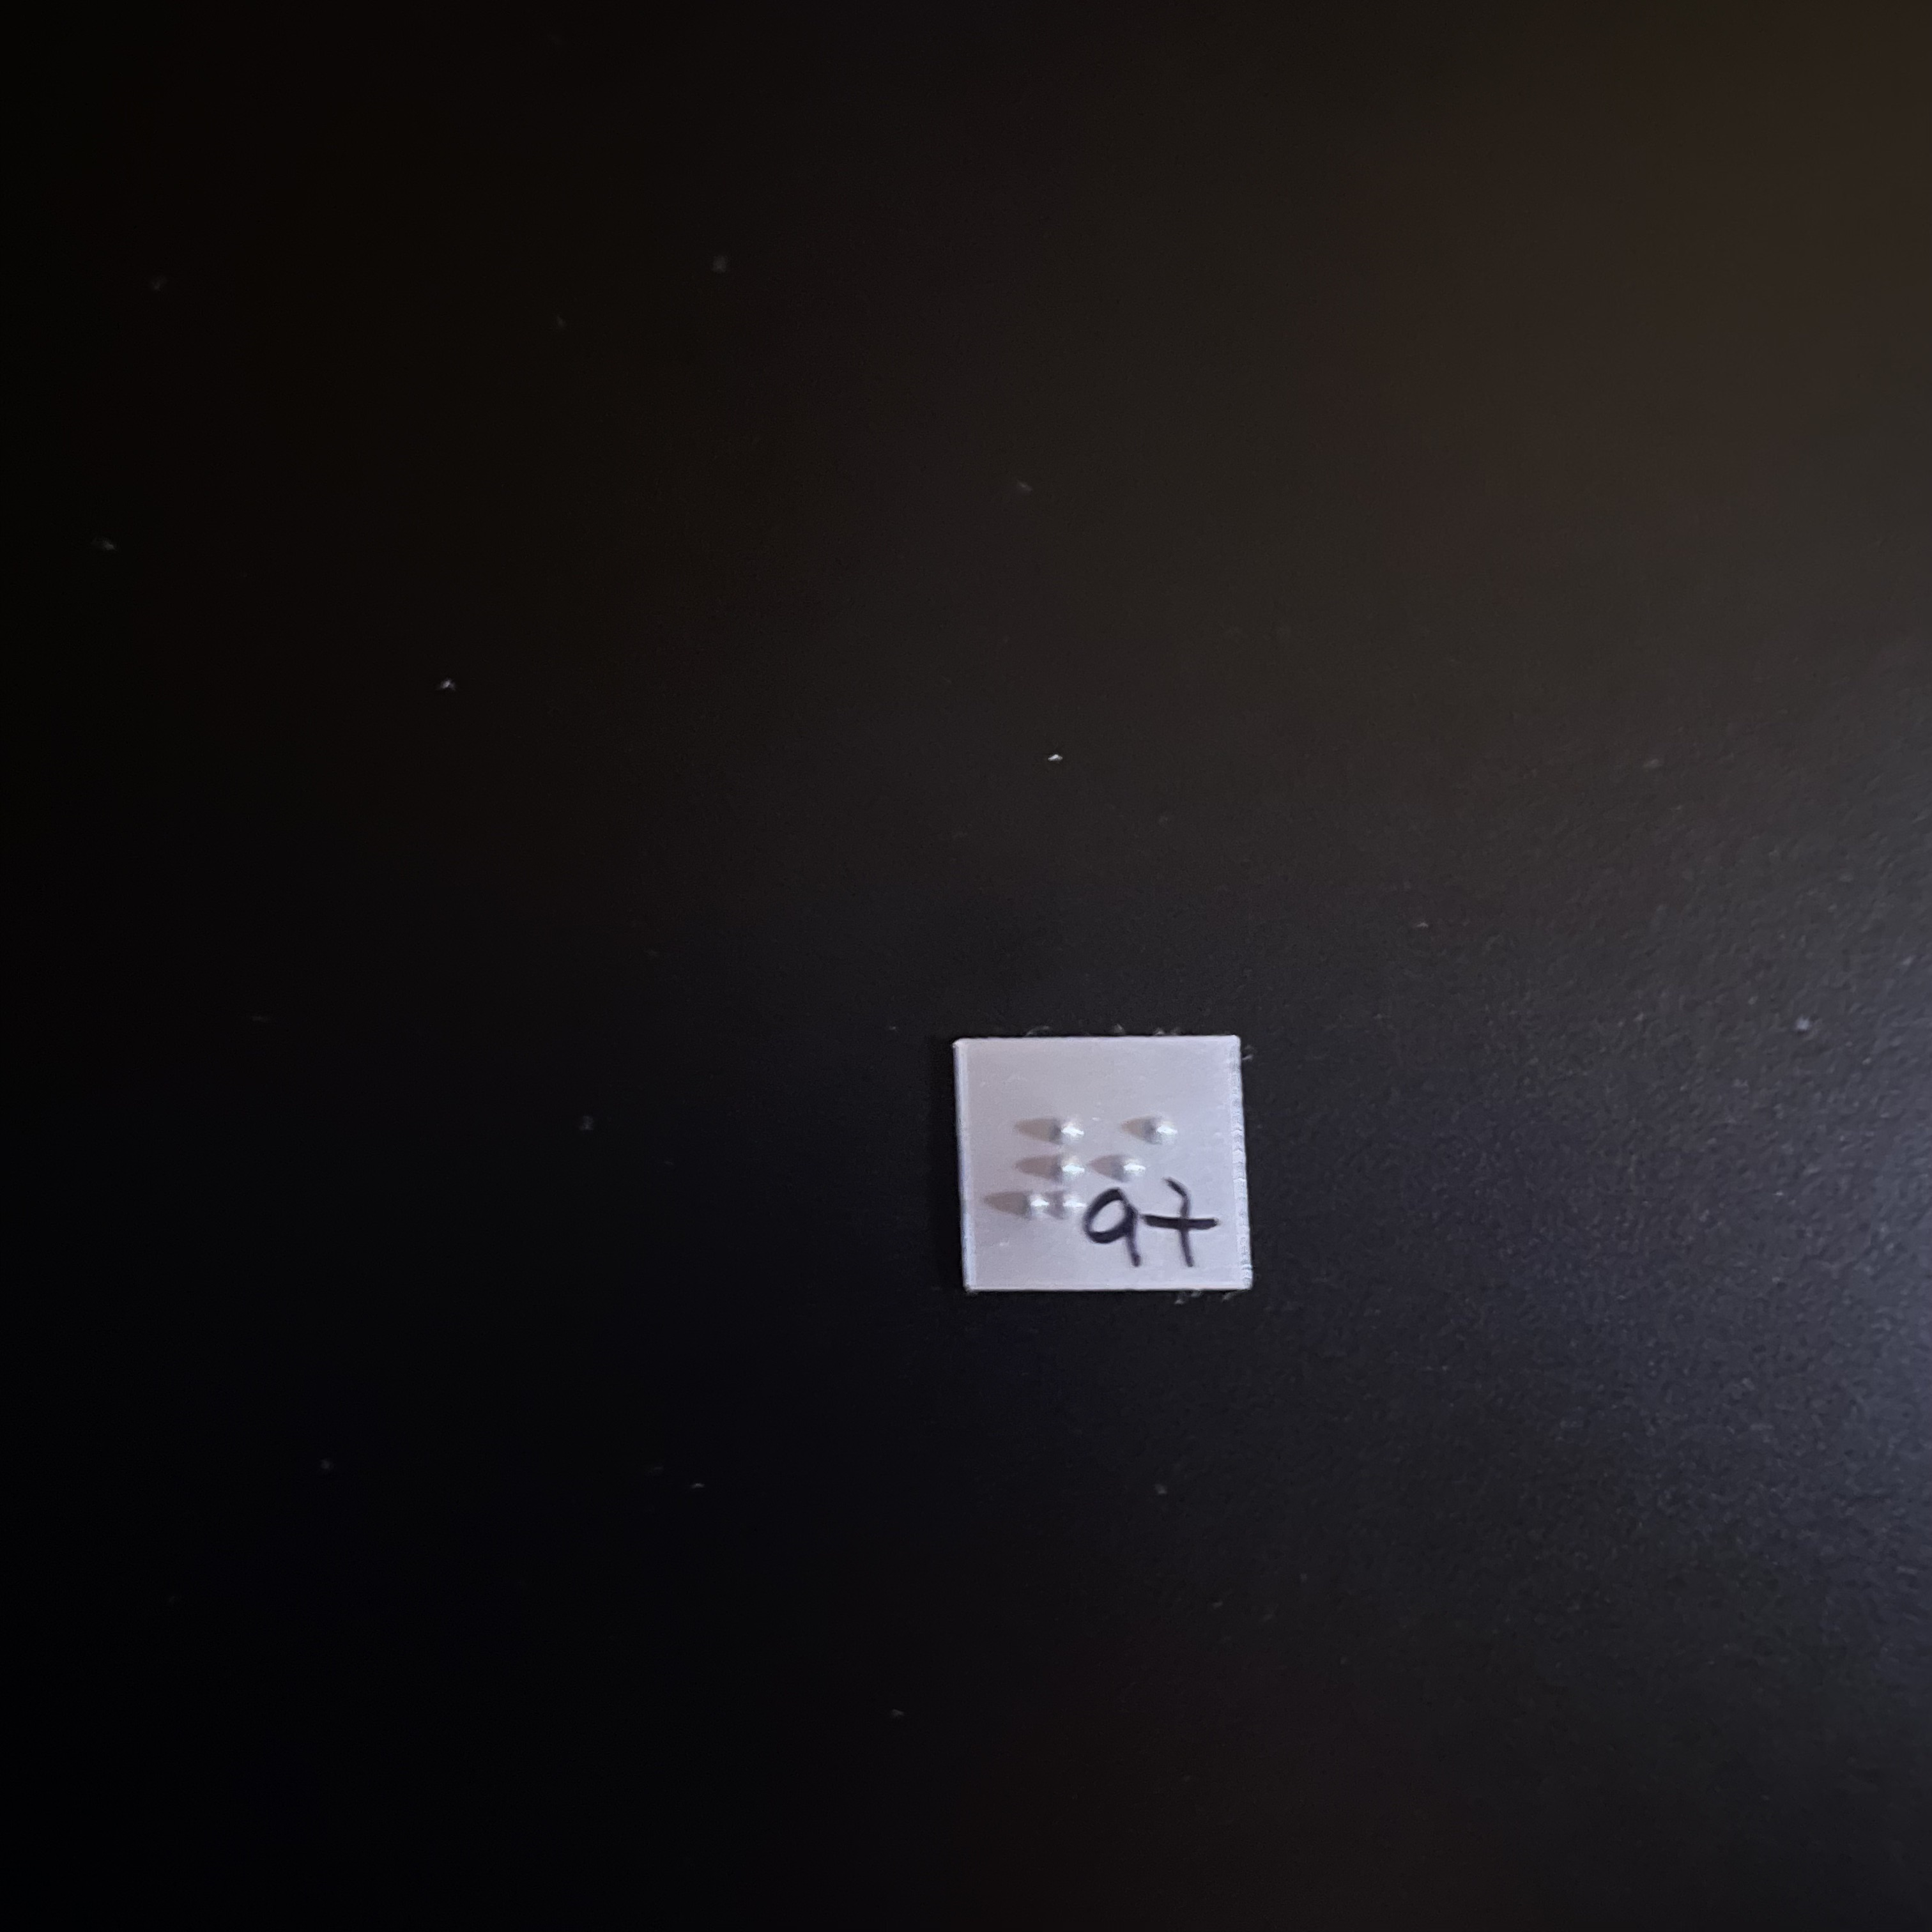#: (999, 1117, 1091, 1234)
i: (1102, 1119, 1188, 1240)
